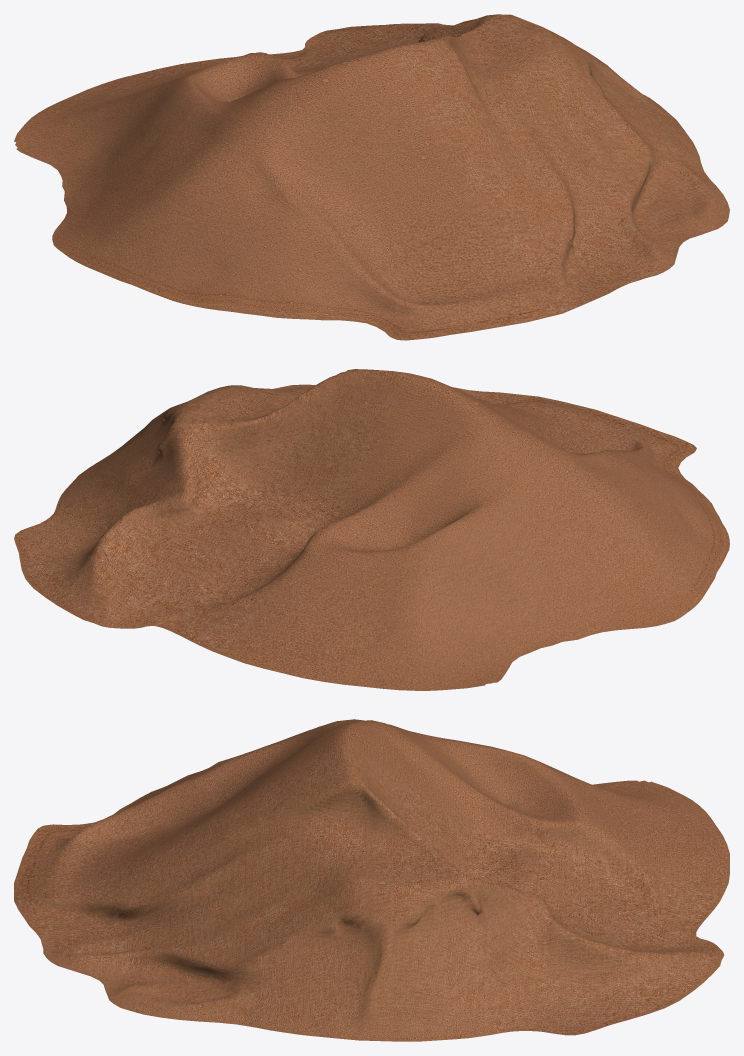
Rendered from tripo_convert_07ba1748-debe-4e29-828c-cbf0d1a82f99.fbx.
3 renders of one model, top to bottom at view 1: azimuth 30°, elevation 25°; view 2: azimuth 150°, elevation 25°; view 3: azimuth 270°, elevation 25°, orthographic. The views are drawn at different scales.
Visible parts, largest first — view 1: tripo_node_07ba1748; view 2: tripo_node_07ba1748; view 3: tripo_node_07ba1748.
Part boxes in pixels (x1,y1,x2,y2): tripo_node_07ba1748: [14, 14, 729, 340]; tripo_node_07ba1748: [14, 369, 729, 690]; tripo_node_07ba1748: [14, 719, 729, 1041].
Bounding box in the file's own units: 0.9824 × 0.2324 × 0.998.
Materials: 1 (1 with a texture image).
